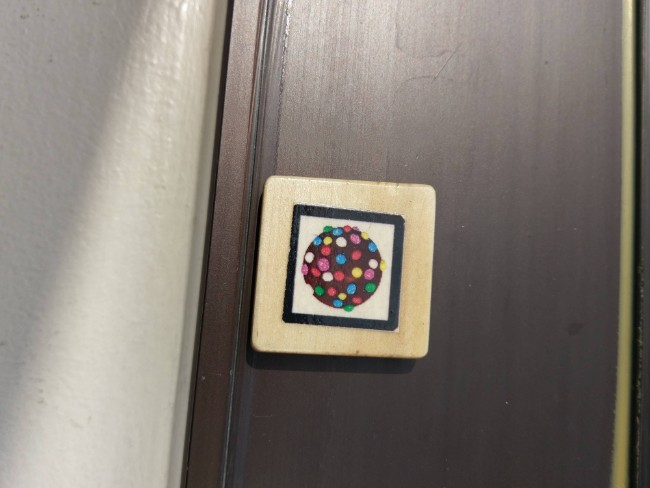cookie: (276, 198, 411, 340)
